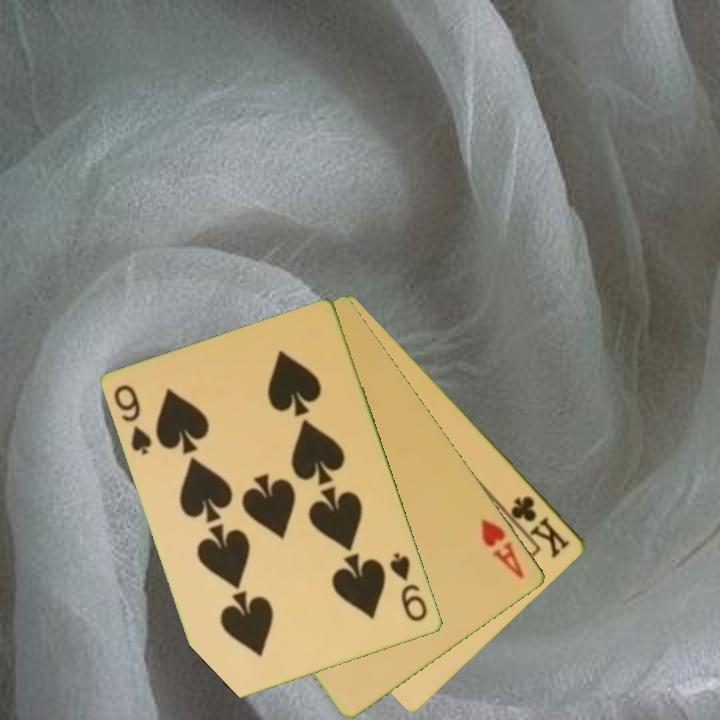9s: (110, 381, 156, 458), (387, 549, 431, 625)
Ah: (478, 515, 528, 582)
Kc: (507, 492, 574, 560)
